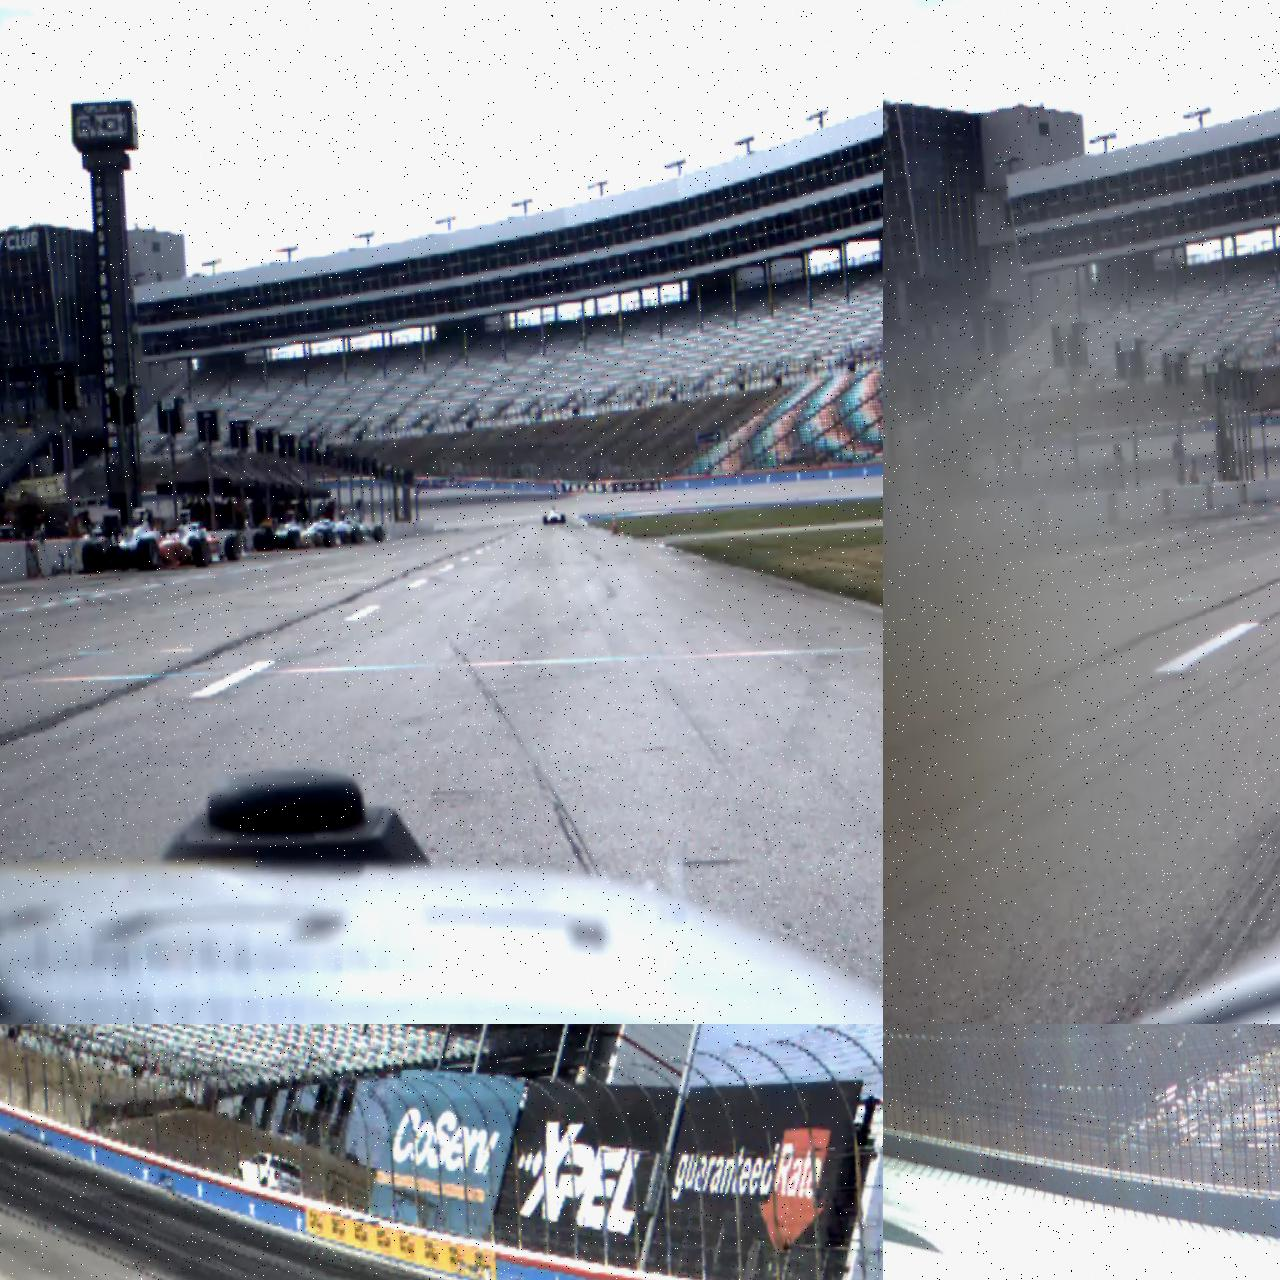AV: (80, 505, 212, 574), (252, 509, 334, 552), (542, 504, 565, 525)
Wheel: (81, 538, 108, 572), (136, 537, 158, 571), (191, 537, 211, 568), (224, 535, 241, 561), (286, 529, 300, 549), (253, 531, 266, 551), (322, 527, 334, 547), (350, 526, 362, 545), (373, 525, 384, 543), (543, 515, 547, 525), (560, 513, 565, 523)
